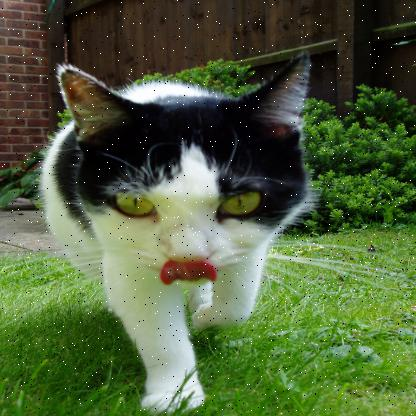cat: (13, 35, 334, 416)
